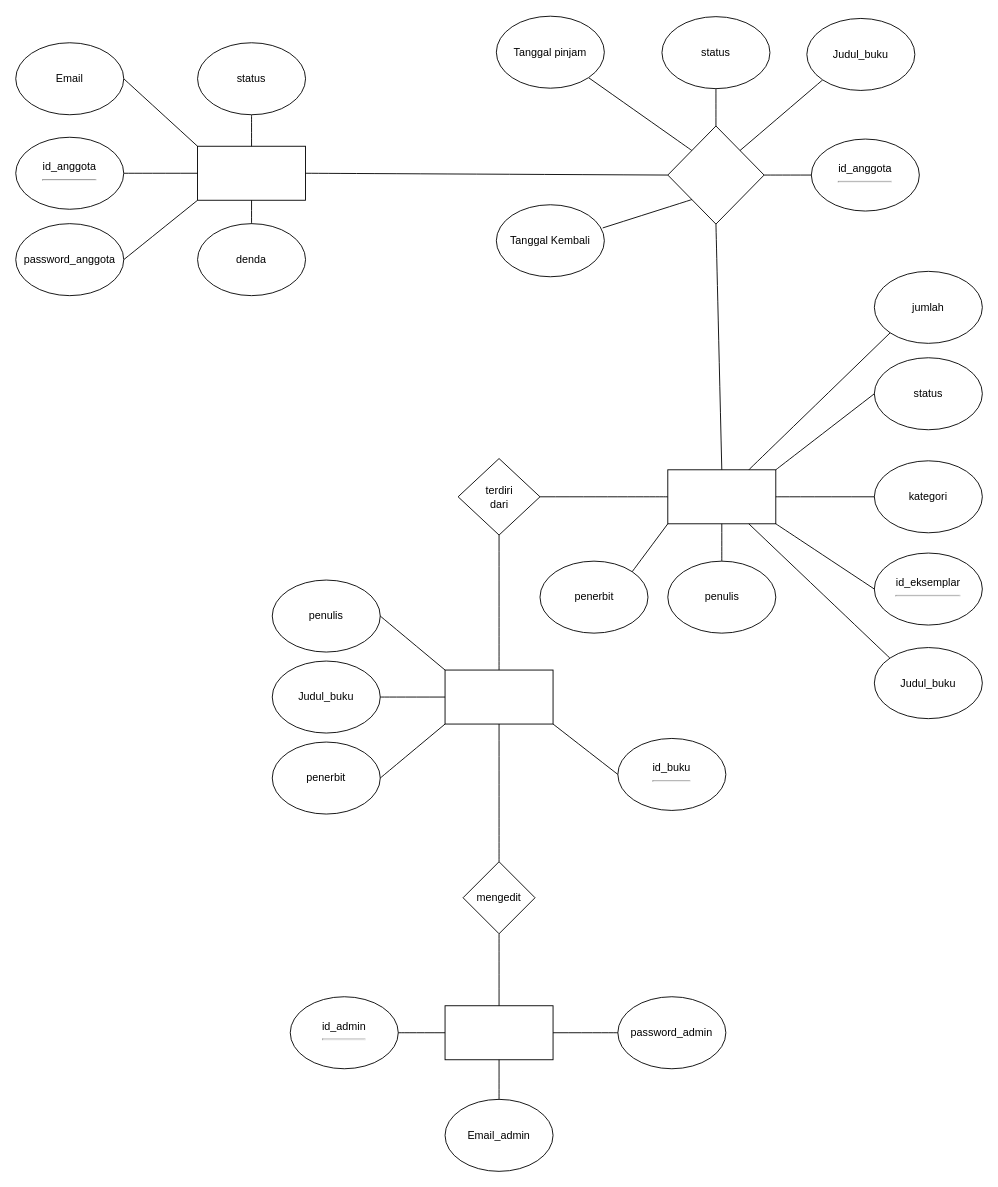
This 998x1187 diagram has some shape labels left out. Each missing label, with the centre of its shape:
Admin: point (498, 1032)
buku: point (498, 696)
Eksemplar: point (721, 496)
meminjam: point (715, 174)
Peminjam: point (251, 172)
